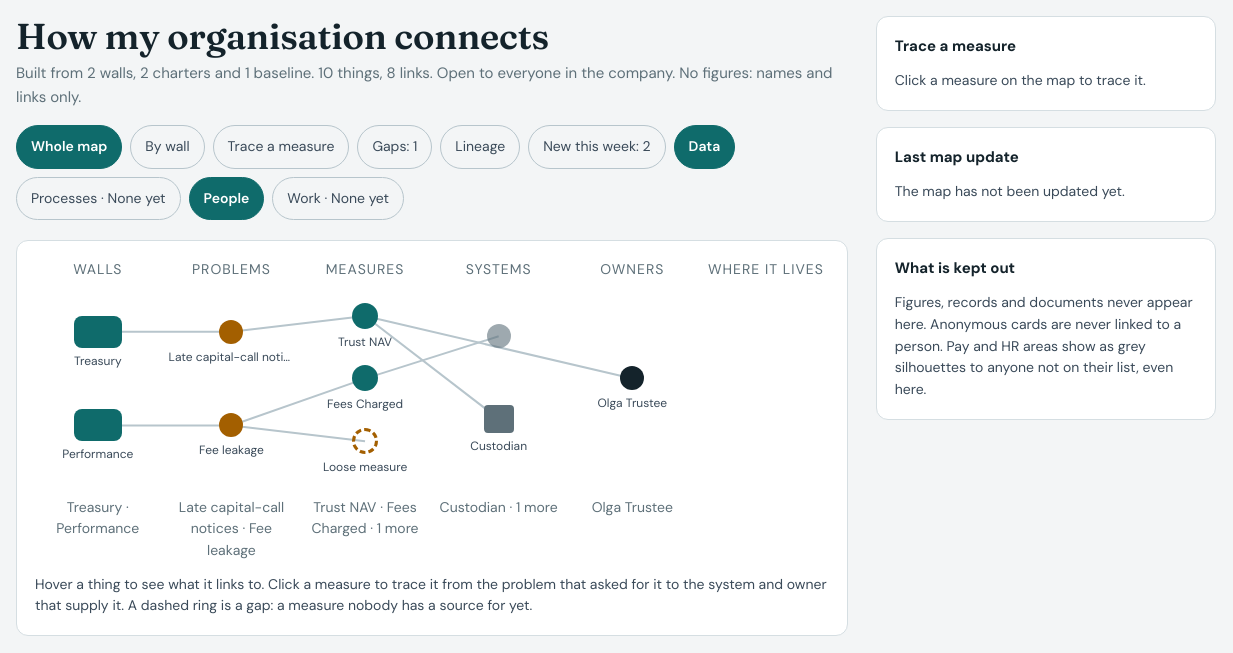
Test case: How my organisation connects › the Holes chip keeps the holes and what asked for them
Click the button "Gaps: 1": {"x": 395, "y": 147} [357,125,432,168]
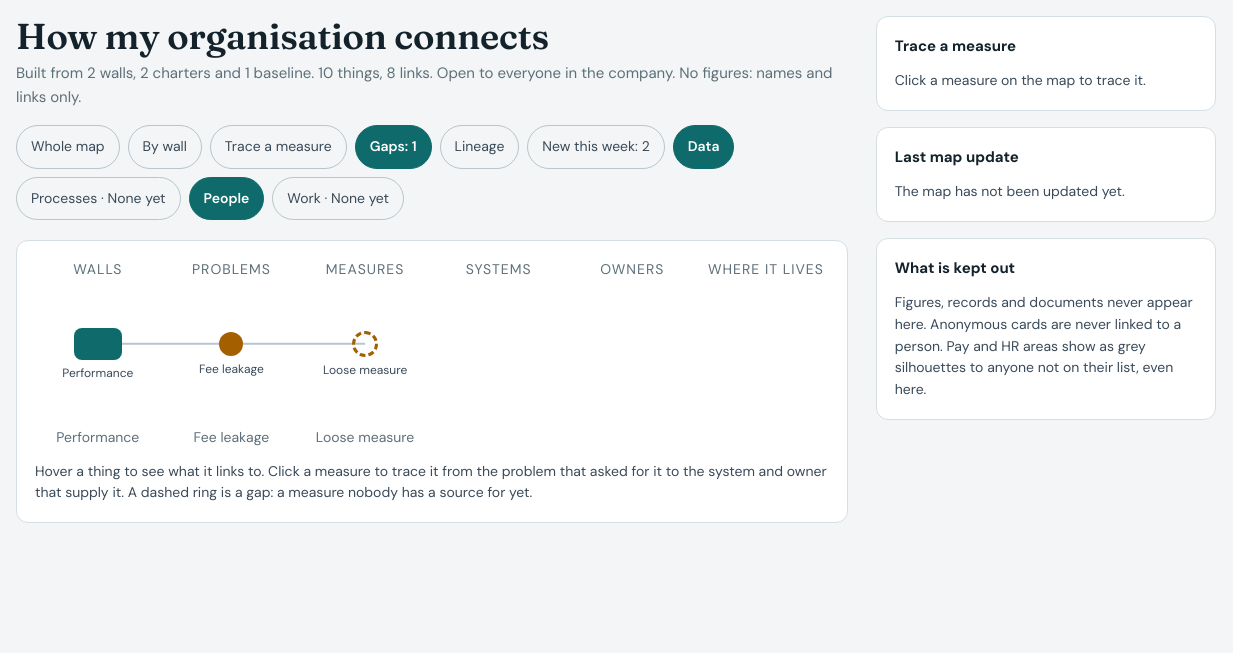
Expected: the button with aria-label "Loose measure, no source yet" is shown, [323,331,407,379]
Expected: the button "Trust NAV" is gone
Expected: the button "Treasury" is gone
